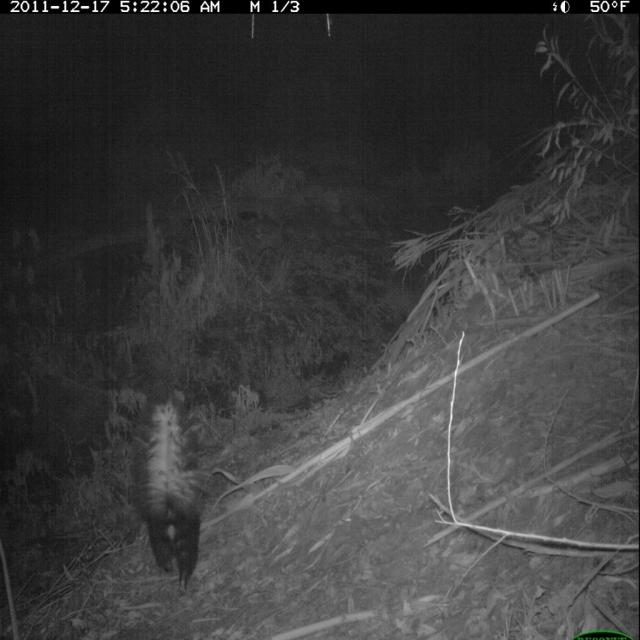skunk: (137, 378, 215, 598)
